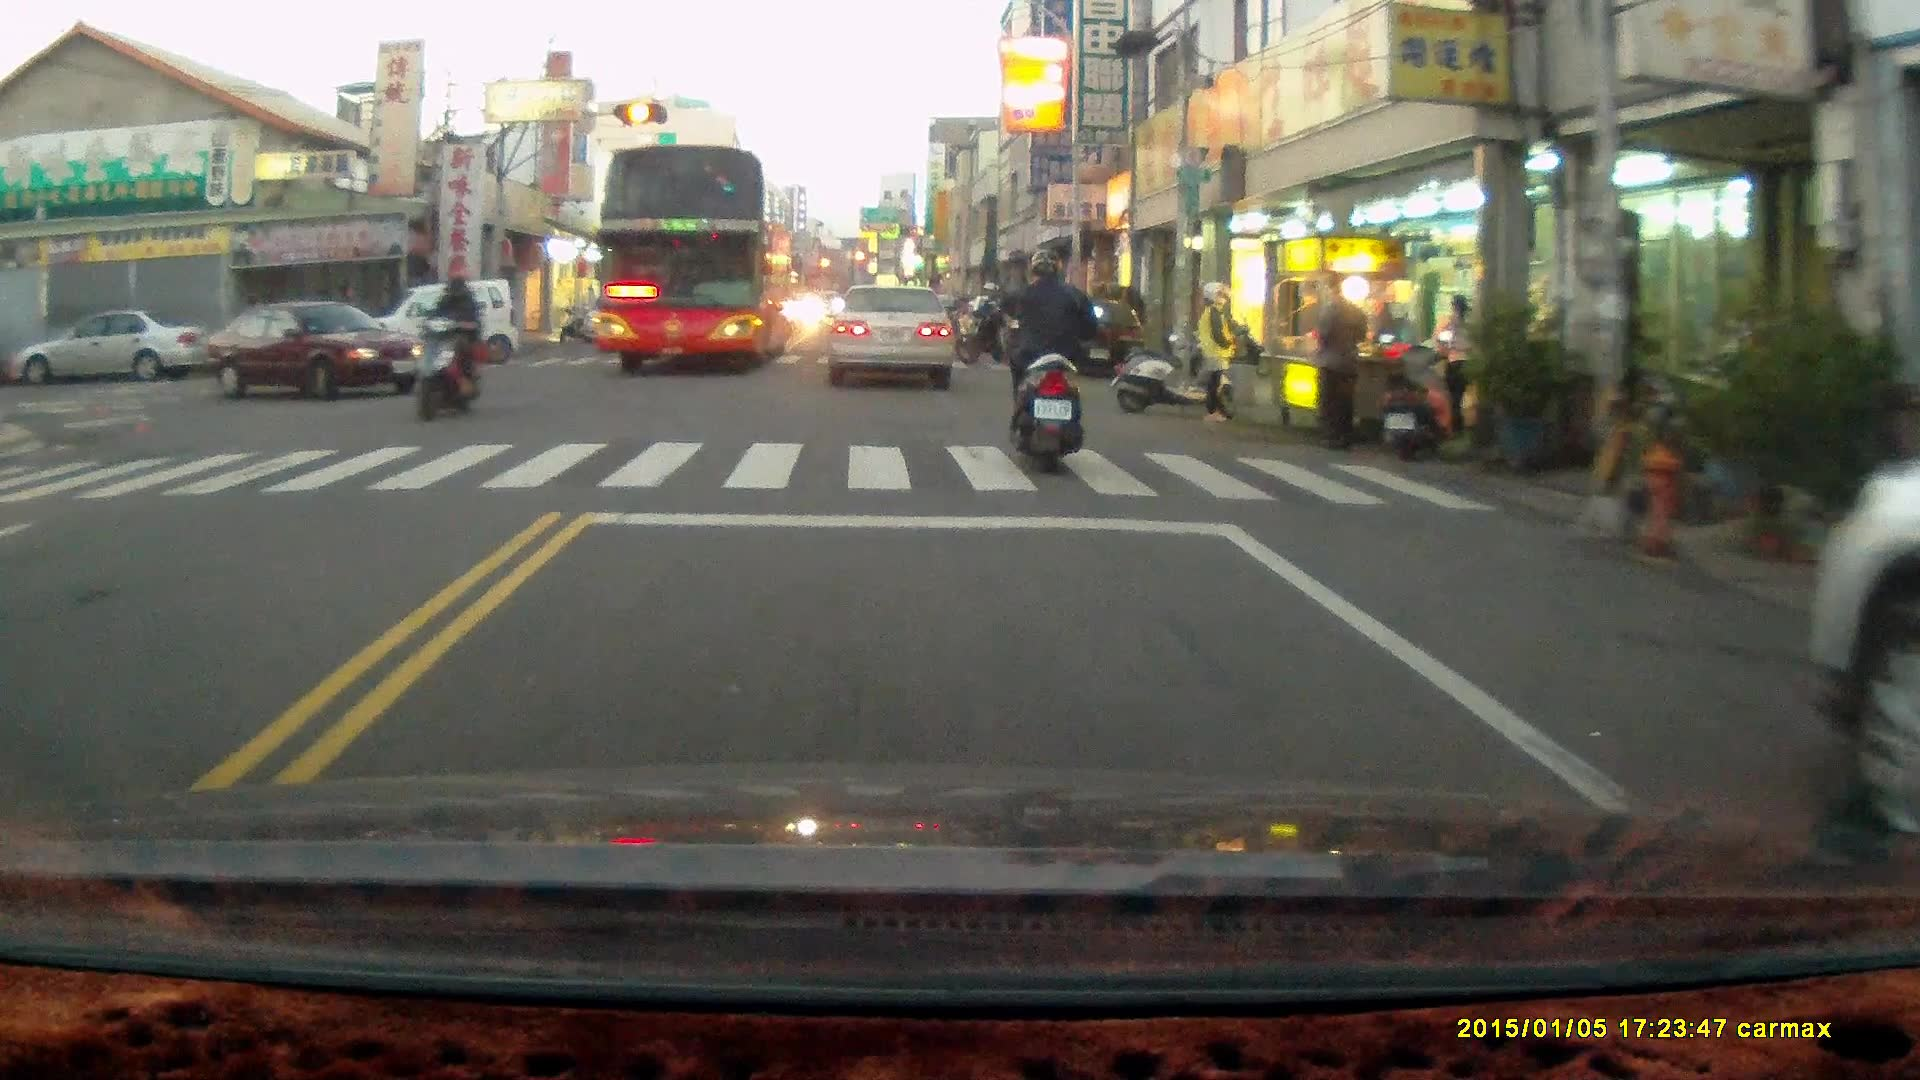pedestrian: (1313, 267, 1367, 452), (1432, 295, 1477, 437), (1193, 280, 1235, 426)
rider: (995, 241, 1105, 474), (409, 265, 485, 419), (954, 281, 1020, 366)
vehicle: (1794, 459, 1920, 861), (596, 148, 793, 381), (209, 302, 428, 402), (367, 281, 523, 371), (828, 286, 961, 390), (15, 311, 194, 388), (1047, 294, 1151, 377)
